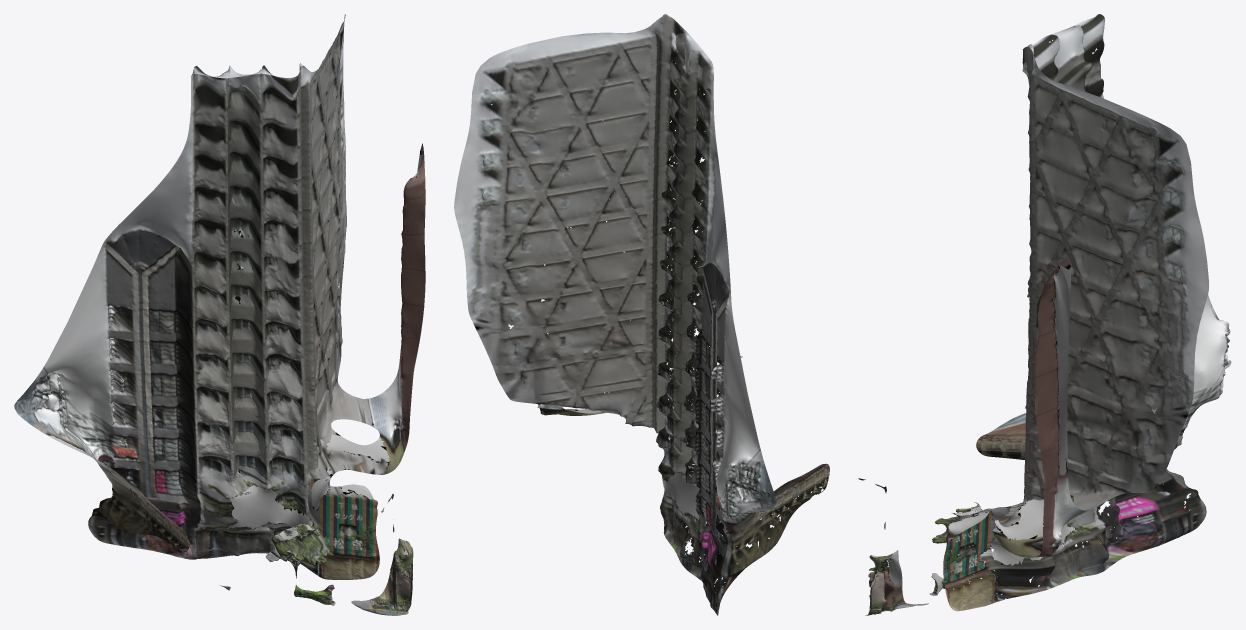
3 renders of one model, left to right at view 1: azimuth 30°, elevation 25°; view 2: azimuth 150°, elevation 25°; view 3: azimuth 270°, elevation 25°, orthographic. The views are drawn at different scales.
Visible parts, largest first — view 1: Object_2, Object_4, Object_3, Object_6, Object_7, Object_8, Object_5, Object_9, Object_10; view 2: Object_6, Object_8, Object_3, Object_7, Object_4, Object_2, Object_9, Object_5, Object_10; view 3: Object_6, Object_3, Object_8, Object_4, Object_2, Object_7, Object_9, Object_10, Object_5.
Boxes of the visible parts, <box> form: Object_2: <box>14,15,412,615</box>; Object_4: <box>16,45,425,614</box>; Object_3: <box>22,14,425,615</box>; Object_6: <box>26,25,424,614</box>; Object_7: <box>17,20,425,615</box>; Object_8: <box>21,29,425,614</box>; Object_5: <box>48,204,410,610</box>; Object_9: <box>20,22,423,614</box>; Object_10: <box>47,153,423,612</box>; Object_6: <box>466,27,813,593</box>; Object_8: <box>466,14,828,612</box>; Object_3: <box>461,21,826,614</box>; Object_7: <box>454,25,828,615</box>; Object_4: <box>467,32,829,580</box>; Object_2: <box>456,15,829,604</box>; Object_9: <box>457,16,827,607</box>; Object_5: <box>536,159,802,562</box>; Object_10: <box>522,234,764,519</box>; Object_6: <box>869,21,1228,615</box>; Object_3: <box>865,15,1231,615</box>; Object_8: <box>862,14,1229,614</box>; Object_4: <box>869,15,1205,614</box>; Object_2: <box>858,44,1226,611</box>; Object_7: <box>870,25,1230,609</box>; Object_9: <box>860,19,1227,615</box>; Object_10: <box>859,265,1074,615</box>; Object_5: <box>868,201,1225,611</box>.
Size of the model in its own units: 29.3 by 42.28 by 25.59.
Materials: 2 (1 with a texture image).
